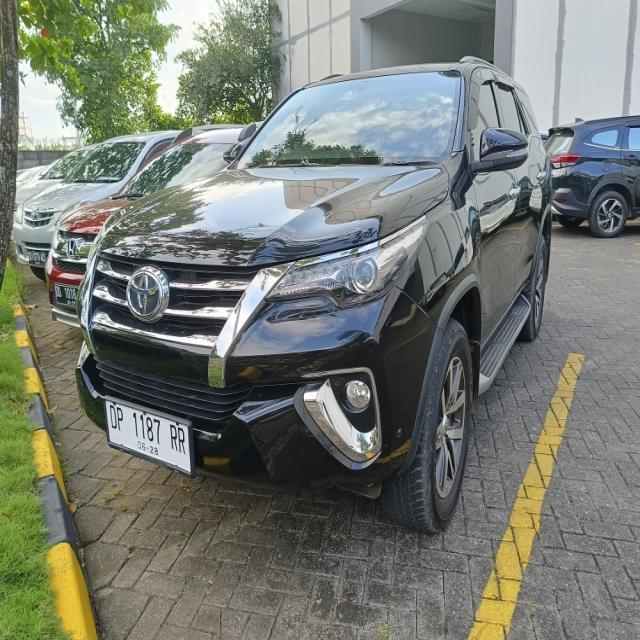plates: (104, 399, 197, 482)
